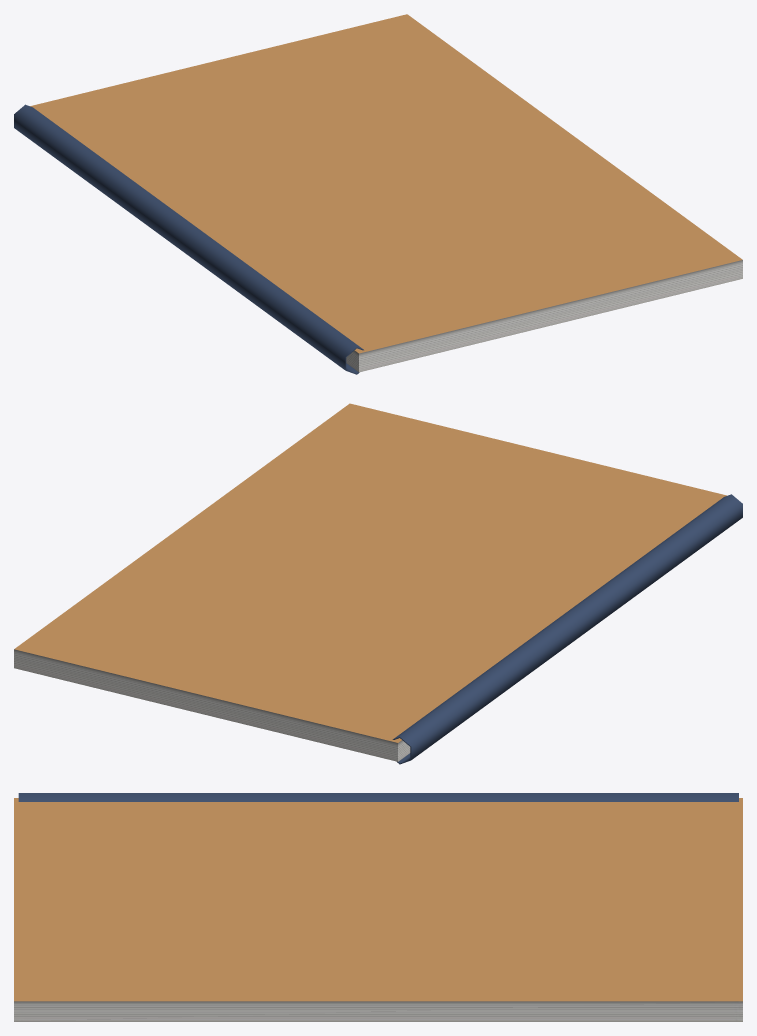
3 renders of one model, top to bottom at view 1: azimuth 30°, elevation 25°; view 2: azimuth 150°, elevation 25°; view 3: azimuth 270°, elevation 25°, orthographic. The views are drawn at different scales.
Parts seen in each view (by area): view 1: Notebook_Cover, Spine, Notebook_Side; view 2: Notebook_Cover, Spine, Notebook_Side; view 3: Notebook_Cover, Notebook_Side, Spine.
Part boxes in pixels (x1,y1,x2,y2): Notebook_Cover: [30, 14, 742, 353]; Spine: [14, 104, 363, 374]; Notebook_Side: [346, 260, 742, 372]; Notebook_Cover: [14, 403, 726, 742]; Spine: [392, 494, 742, 764]; Notebook_Side: [14, 649, 410, 761]; Notebook_Cover: [14, 798, 742, 1001]; Notebook_Side: [14, 1001, 742, 1021]; Spine: [18, 793, 738, 801].
Size of the model in its own units: 19.89 by 1.32 by 29.26.
3 materials, 1 textured.
